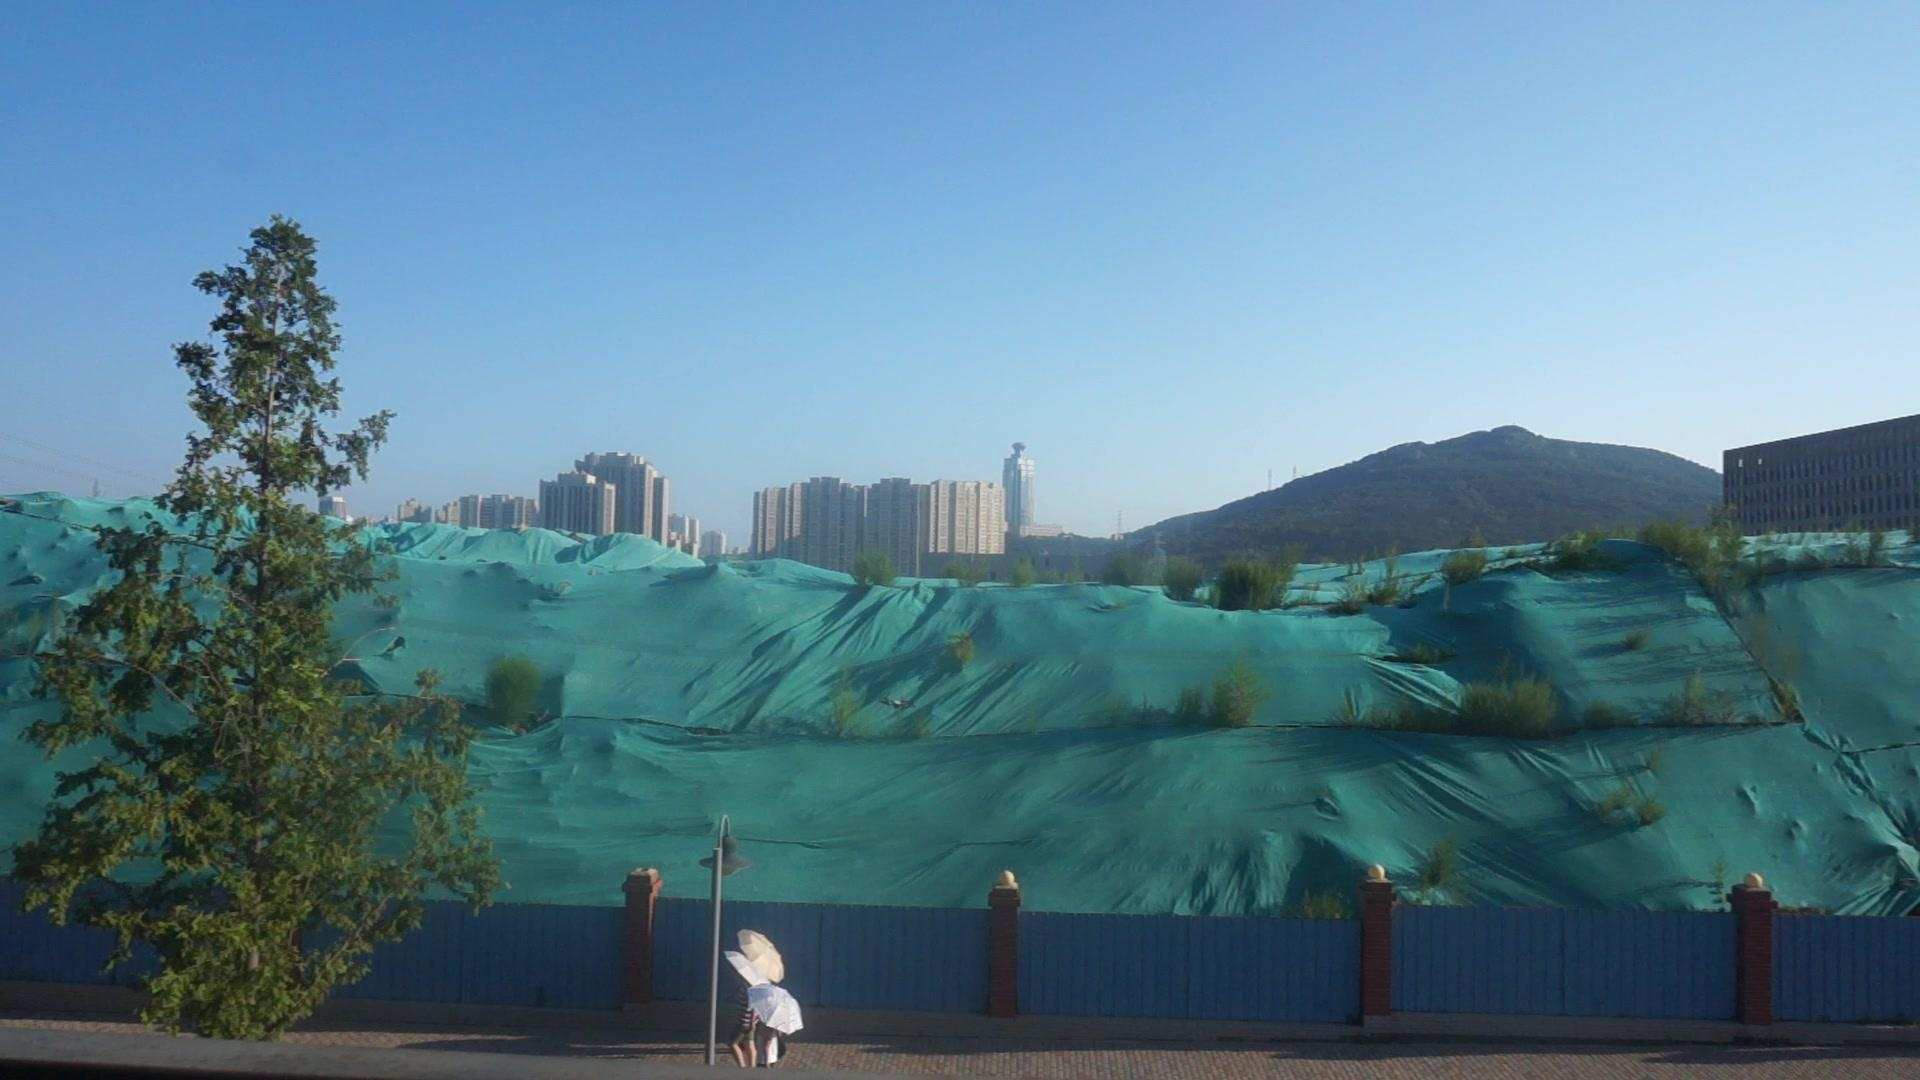UAV: (881, 700, 916, 711)
